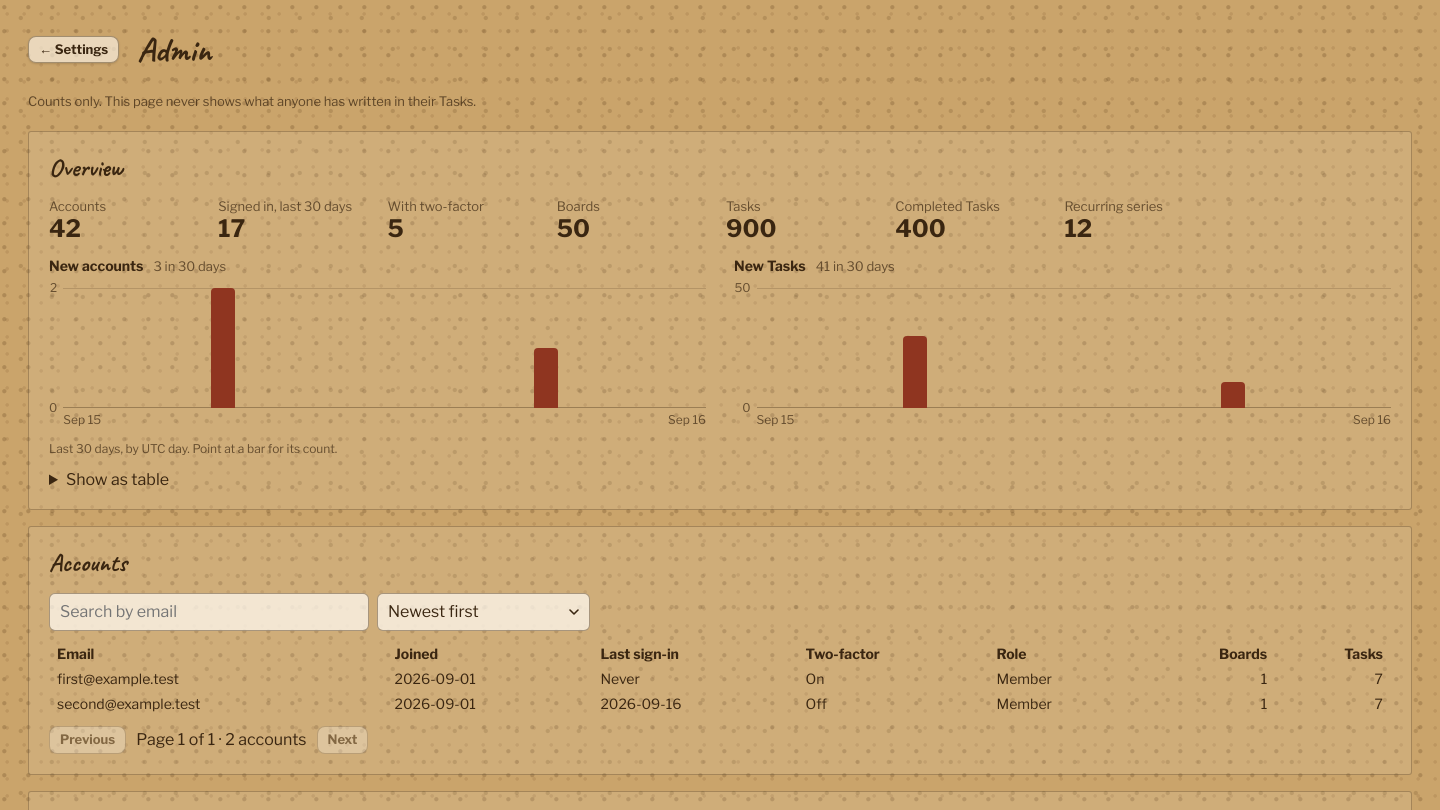
Scenario: a search with no match says so
Expected: the text "first@example.test" is shown, top-left (49, 666), bottom-right (386, 691)
Type "nobody" into the search field at (209, 612), box top-left (49, 593), bottom-right (369, 631)
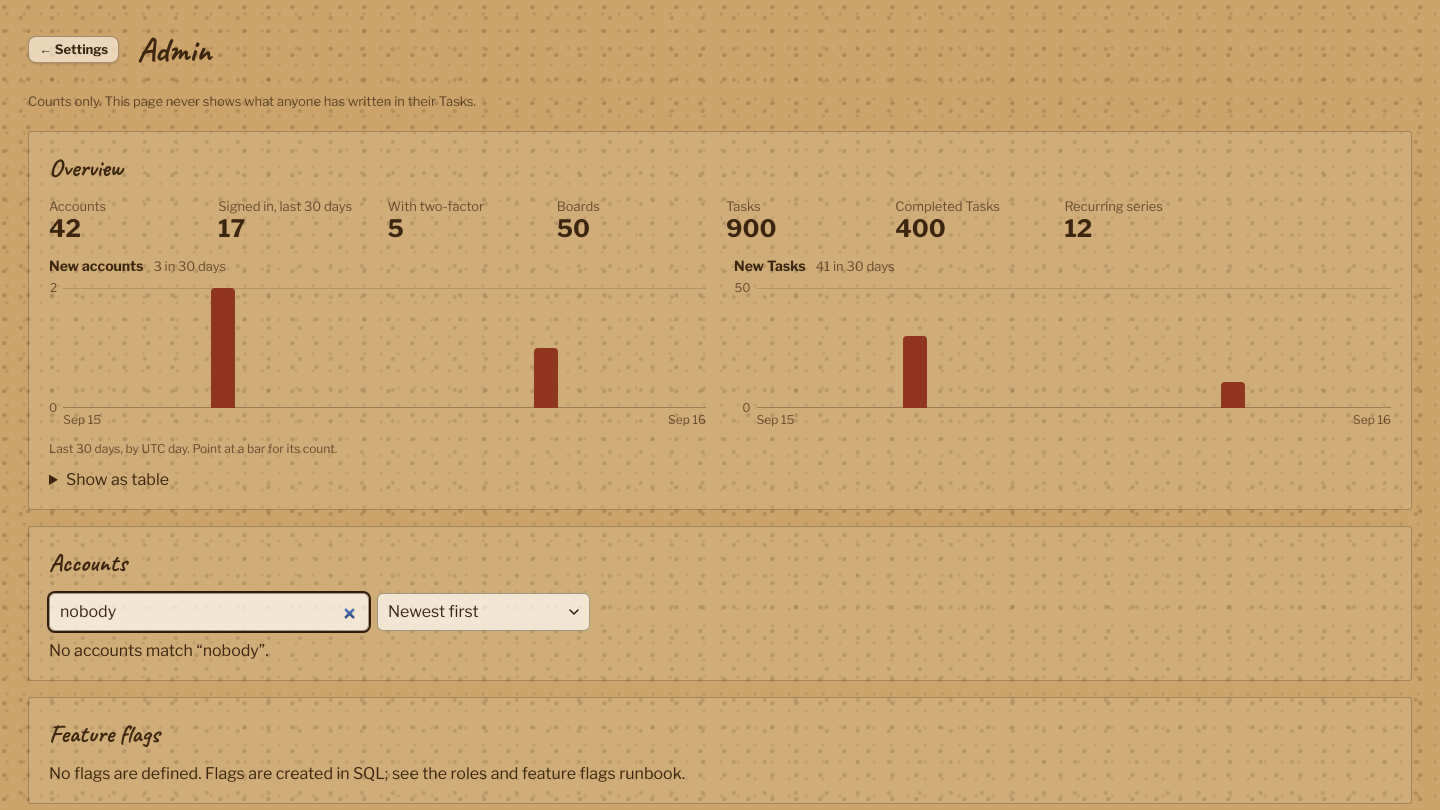
Result: the text "No accounts match “nobody”." is shown at top-left (49, 641), bottom-right (269, 660)
